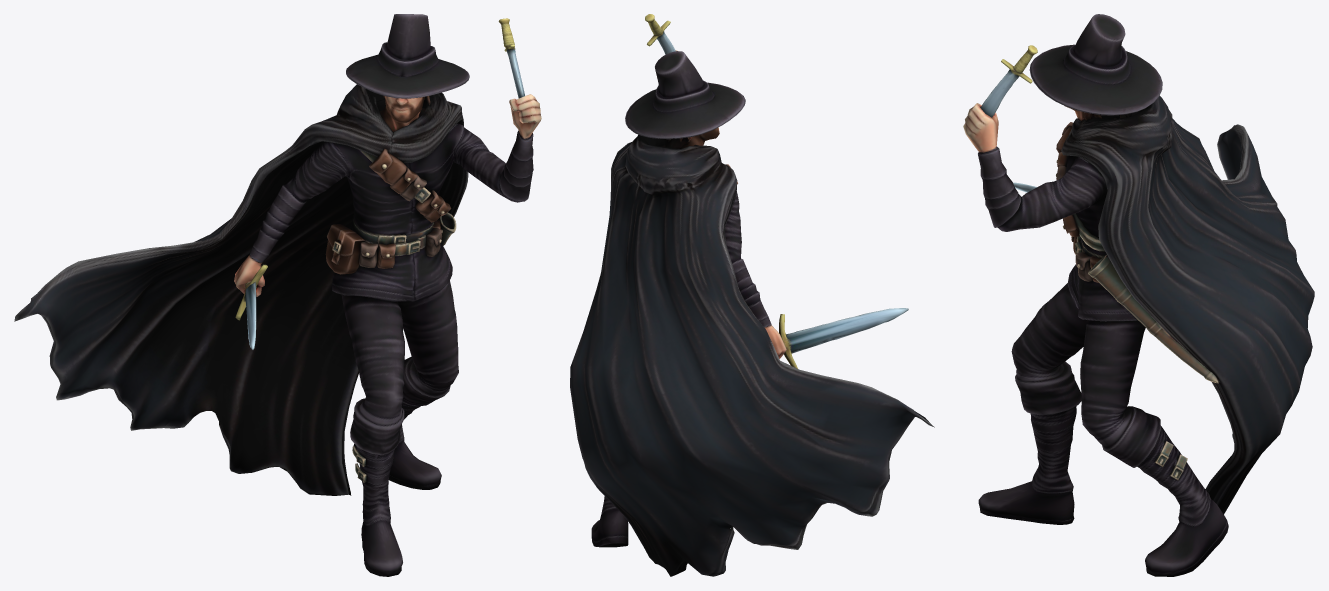
Rendered from MZ4250 - Witch Hunter.glb.
The picture shows the model from 3 angles, left to right: view 1: azimuth 30°, elevation 25°; view 2: azimuth 150°, elevation 25°; view 3: azimuth 270°, elevation 25°; orthographic projection. The views are drawn at different scales.
Visible parts, largest first — view 1: cloak_low.001, body_low.001, hat_low.001, pouches_low.001, pouches2_low.001, sword_low.001, dagger_low.001; view 2: cloak_low.001, hat_low.001, body_low.001, sword_low.001, dagger_low.001; view 3: cloak_low.001, body_low.001, hat_low.001, sheath_low.001, dagger_low.001, pouches_low.001, pouches2_low.001.
Boxes of the visible parts, x1=… form: cloak_low.001: x1=14, y1=84, x2=468, y2=495; body_low.001: x1=234, y1=94, x2=541, y2=576; hat_low.001: x1=346, y1=14, x2=469, y2=98; pouches_low.001: x1=325, y1=148, x2=451, y2=274; pouches2_low.001: x1=359, y1=167, x2=443, y2=267; sword_low.001: x1=235, y1=264, x2=267, y2=349; dagger_low.001: x1=498, y1=18, x2=524, y2=98; cloak_low.001: x1=570, y1=135, x2=934, y2=576; hat_low.001: x1=625, y1=51, x2=745, y2=139; body_low.001: x1=591, y1=50, x2=786, y2=547; sword_low.001: x1=779, y1=308, x2=908, y2=368; dagger_low.001: x1=645, y1=14, x2=675, y2=54; cloak_low.001: x1=1061, y1=96, x2=1314, y2=514; body_low.001: x1=963, y1=103, x2=1228, y2=576; hat_low.001: x1=1029, y1=14, x2=1162, y2=115; sheath_low.001: x1=1088, y1=255, x2=1218, y2=383; dagger_low.001: x1=980, y1=45, x2=1037, y2=117; pouches_low.001: x1=1056, y1=122, x2=1100, y2=283; pouches2_low.001: x1=1056, y1=152, x2=1092, y2=281.
Bounding box in the file's own units: 4.82 × 5.77 × 3.41.
1 material, 1 textured.
